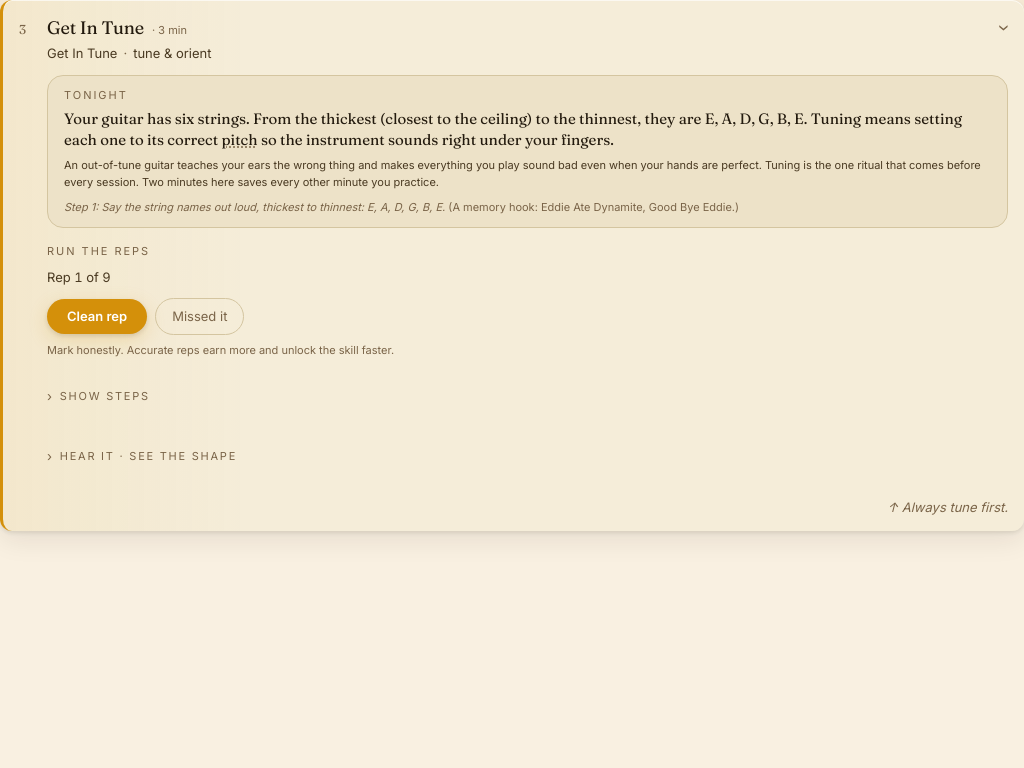
Test: ChainDrillSlot — term-linking (Roman-numeral strip + drill-step instructions) › attaches a Roman Numerals explainer chip to the progression strip
# The strip lives behind the "Hear it · see the shape" disclosure.
Click the button "› Hear it · see the shape" at (142, 456), box [47,434,237,478]
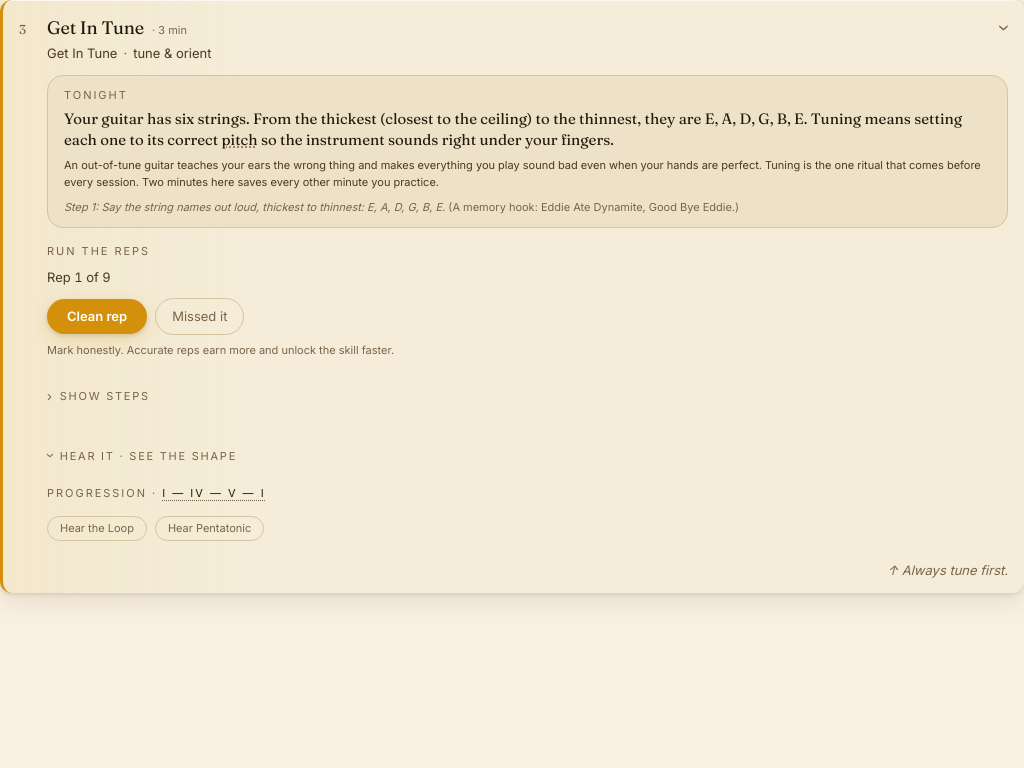
Check: the button with aria-label "Explain: Roman Numerals" is shown, box [162,486,266,500]
